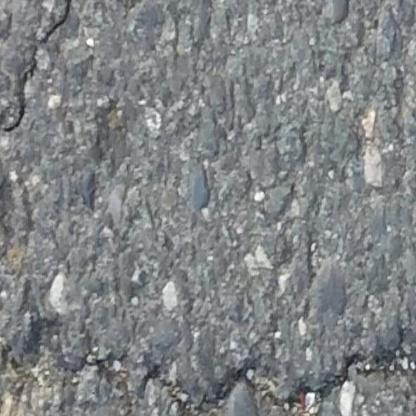Cracks: (0, 283, 416, 416), (0, 0, 90, 245)
